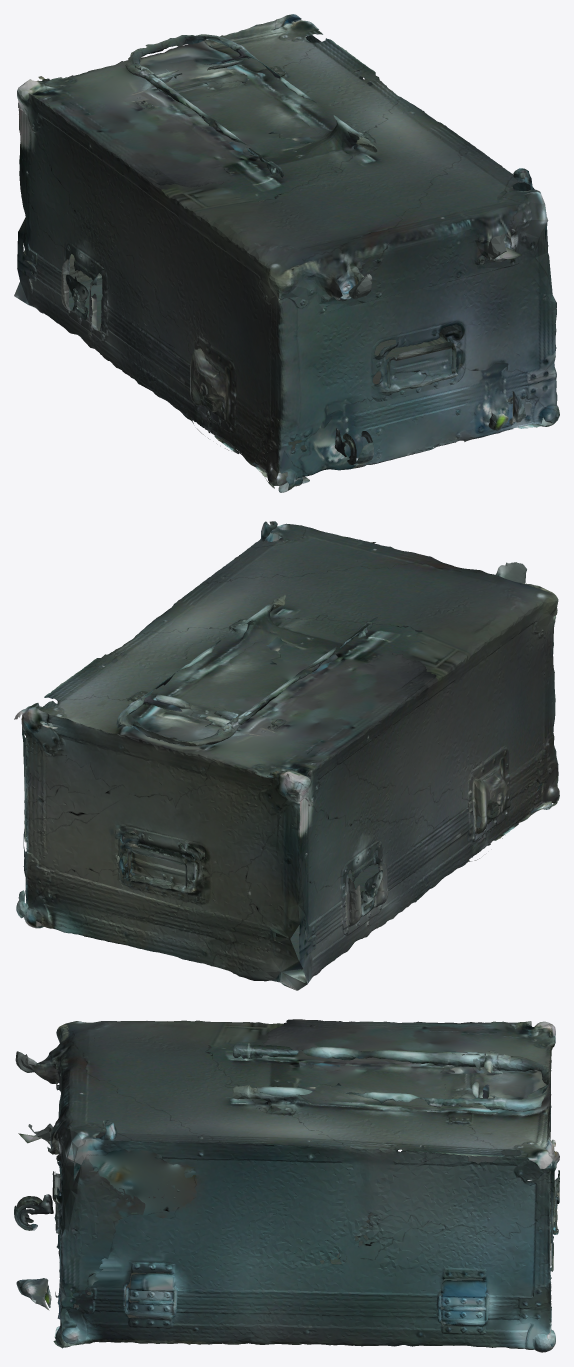
File: big_black_box.glb
The picture shows the model from 3 angles, top to bottom: view 1: azimuth 30°, elevation 25°; view 2: azimuth 150°, elevation 25°; view 3: azimuth 270°, elevation 25°; orthographic projection. The views are drawn at different scales.
Parts seen in each view (by area): view 1: bigblackbox; view 2: bigblackbox; view 3: bigblackbox.
Part boxes in pixels (x1,y1,x2,y2): bigblackbox: [14, 14, 559, 492]; bigblackbox: [14, 521, 559, 990]; bigblackbox: [14, 1019, 559, 1352].
Size of the model in its own units: 0.521 by 0.396 by 0.8611.
1 material, 1 textured.
